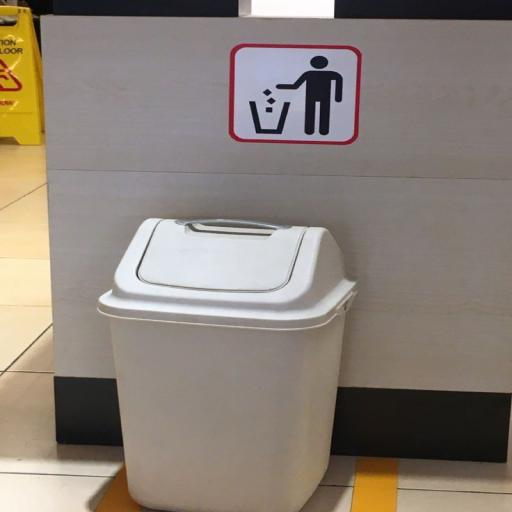ramp: (98, 218, 356, 512)
